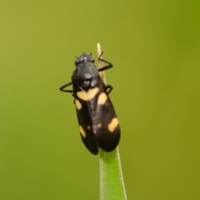insect: (60, 53, 119, 154)
